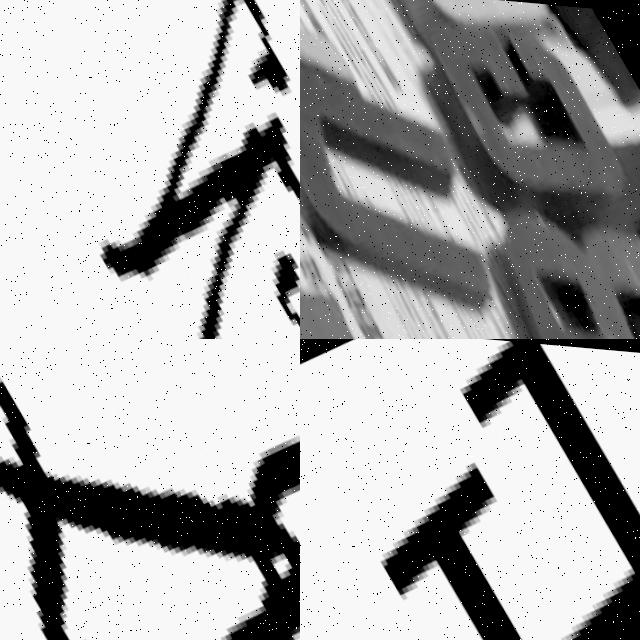B: (457, 157, 640, 339)
C: (374, 0, 563, 72)
F: (300, 339, 640, 640)
G: (394, 0, 637, 235)
N: (0, 0, 300, 339)
R: (17, 339, 300, 640)
U: (300, 16, 515, 339)
